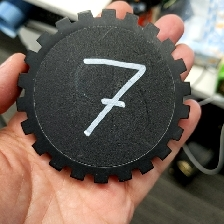gear: (15, 7, 192, 186)
